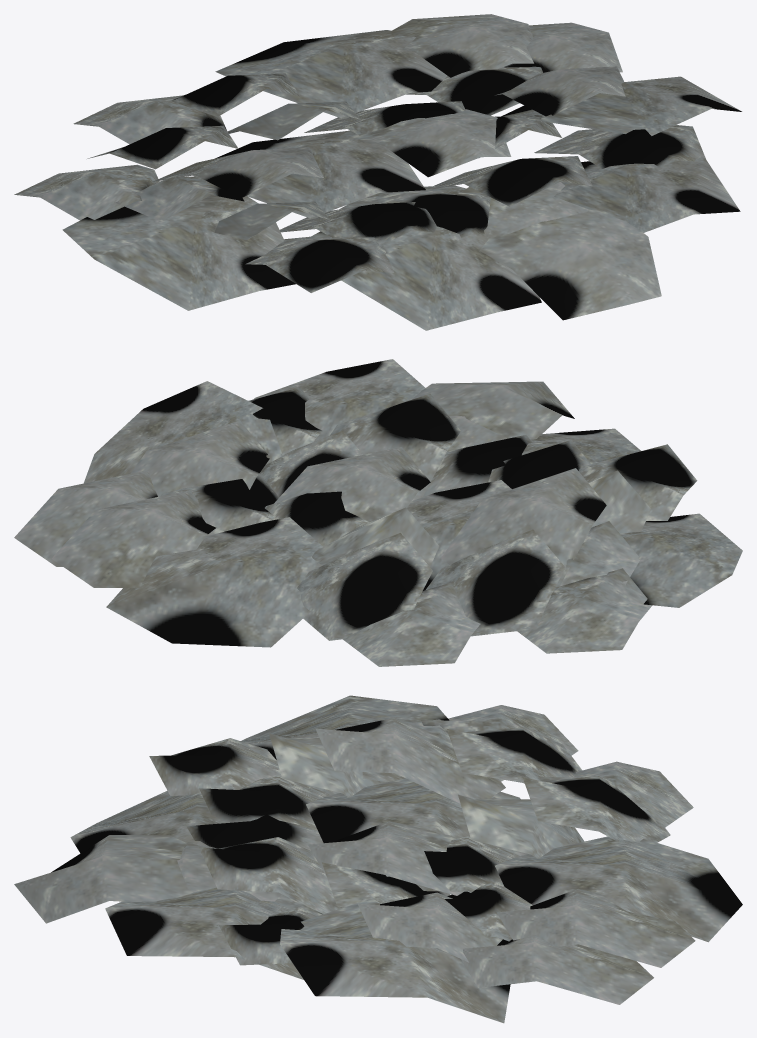
File: Ivy.fbx
3 views of the same model, one above another, from view 1: azimuth 30°, elevation 25°; view 2: azimuth 150°, elevation 25°; view 3: azimuth 270°, elevation 25° (orthographic). The views are drawn at different scales.
Visible parts, largest first — view 1: Ivy_Patch; view 2: Ivy_Patch; view 3: Ivy_Patch.
Part boxes in pixels (bbox=[...]): Ivy_Patch: bbox=[14, 14, 741, 330]; Ivy_Patch: bbox=[14, 359, 742, 666]; Ivy_Patch: bbox=[14, 695, 742, 1023].
Size of the model in its own units: 358 by 46.54 by 360.
